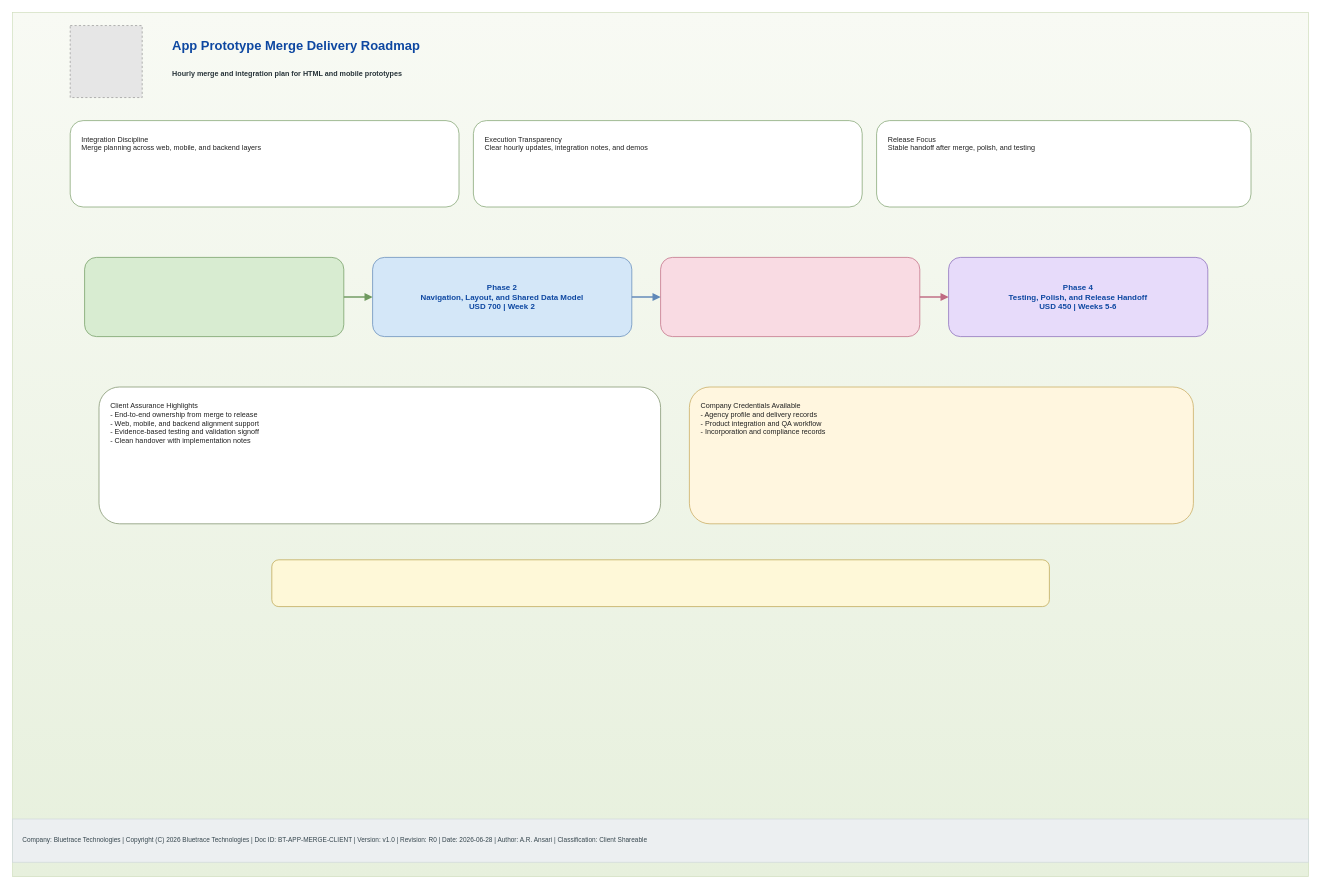
Image size: 1321x889. Some labels were removed from this diagram. Grey dashed boxes stand in for pictures. The shapes that lost their labels are listed below. From the top down, each one's centre as x and y in pixels, then its label:
point (214, 297): Phase 1 Prototype Audit and Merge Architecture USD 500 | Week 1
point (790, 297): Phase 3 Backend Sync and State Handling USD 600 | Weeks 3-4
point (660, 583): Estimated Overall Timeline: 1 to 3 months, with hourly checkpoints
